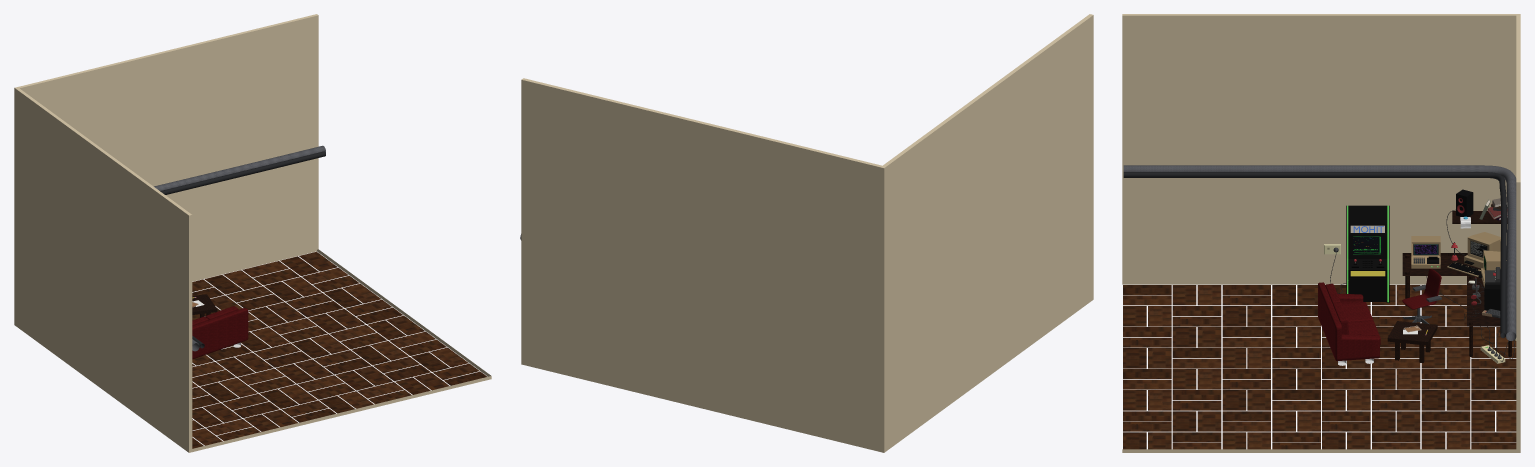
Rendered from haker_room.glb.
3 renders of one model, left to right at view 1: azimuth 30°, elevation 25°; view 2: azimuth 150°, elevation 25°; view 3: azimuth 270°, elevation 25°, orthographic. The views are drawn at different scales.
Parts seen in each view (by area): view 1: walls, ground, sofa, pipe, NurbsPath.001; view 2: walls; view 3: walls, ground, pipe, gaming mashine, sofa, NurbsPath.001, table.001, table, computer, Plane.013, chair, SPAKER (+2 smaller).
Boxes of the visible parts, bbox=[...] form: walls: bbox=[14, 14, 491, 452]; ground: bbox=[192, 251, 487, 448]; sofa: bbox=[192, 306, 248, 359]; pipe: bbox=[154, 145, 325, 351]; NurbsPath.001: bbox=[160, 151, 325, 348]; walls: bbox=[521, 14, 1093, 452]; walls: bbox=[1122, 14, 1520, 452]; ground: bbox=[1123, 285, 1516, 449]; pipe: bbox=[1123, 165, 1516, 340]; gaming mashine: bbox=[1346, 205, 1389, 302]; sofa: bbox=[1318, 282, 1380, 361]; NurbsPath.001: bbox=[1123, 172, 1506, 338]; table.001: bbox=[1402, 253, 1511, 356]; table: bbox=[1387, 321, 1437, 362]; computer: bbox=[1411, 236, 1440, 268]; Plane.013: bbox=[1464, 232, 1500, 268]; chair: bbox=[1402, 268, 1441, 309]; SPAKER: bbox=[1456, 189, 1473, 216].
Size of the model in its own units: 8.07 by 6 by 8.
106 materials, 49 textured.
